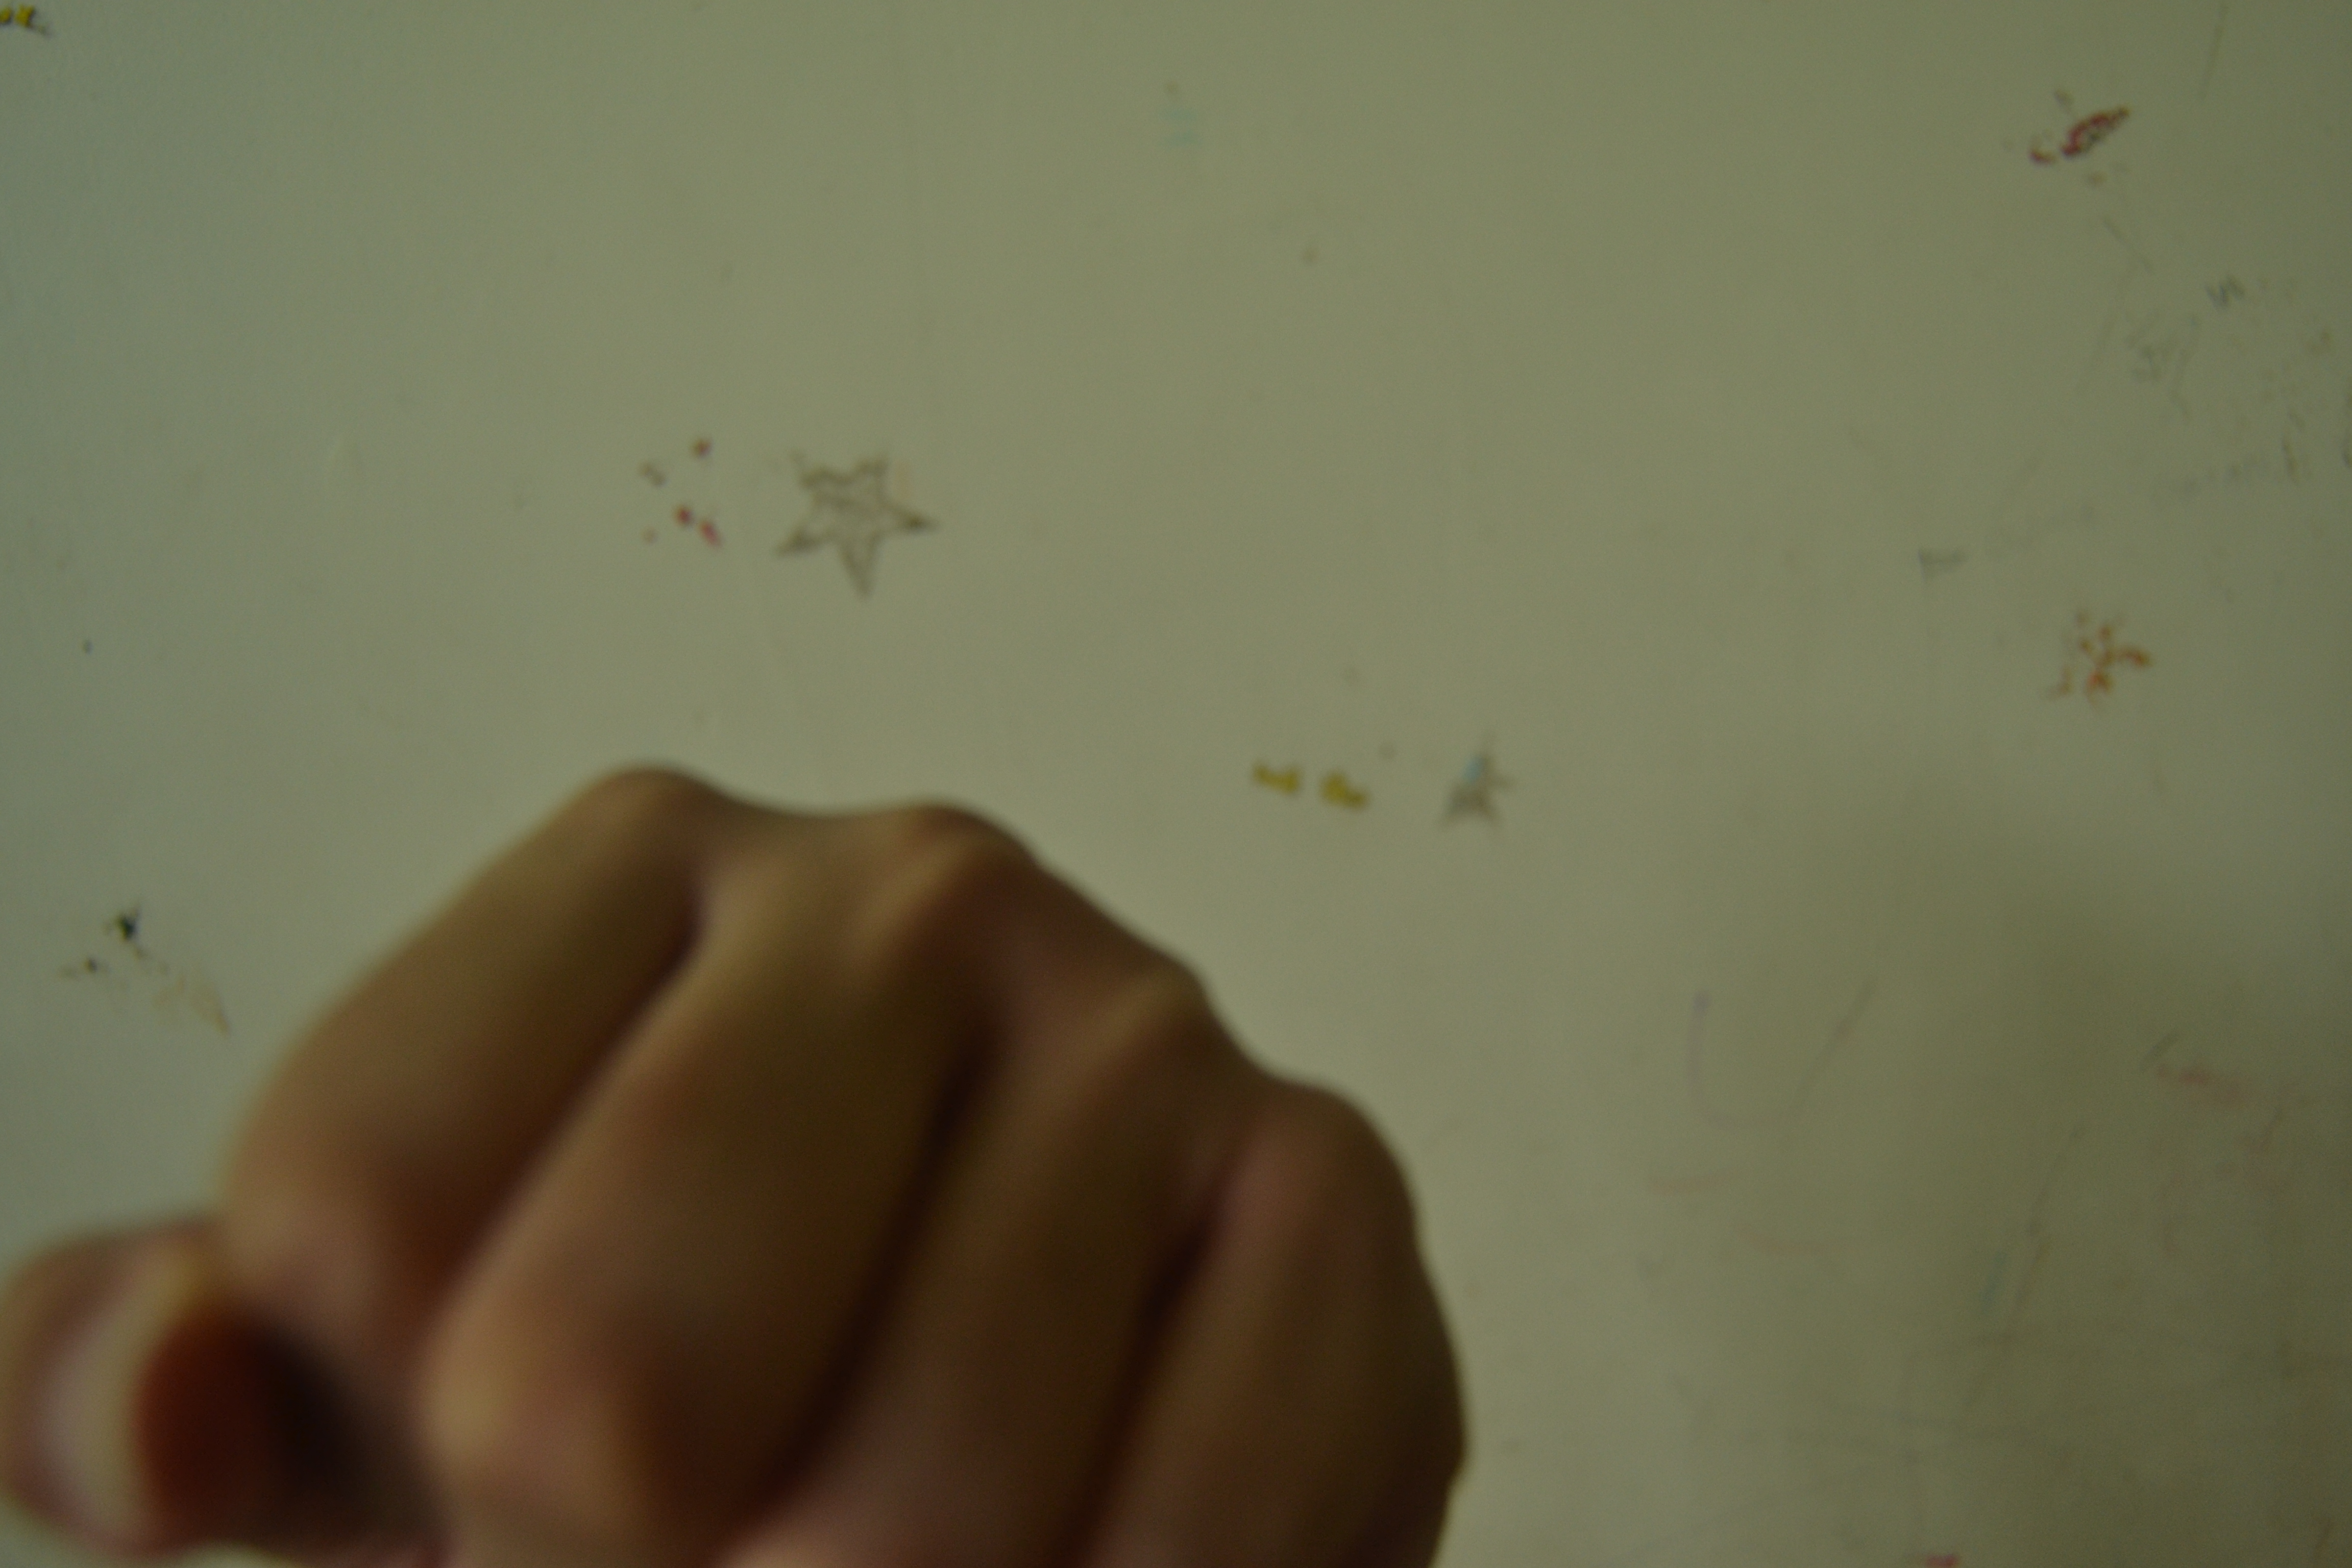click: (24, 747, 1430, 1568)
